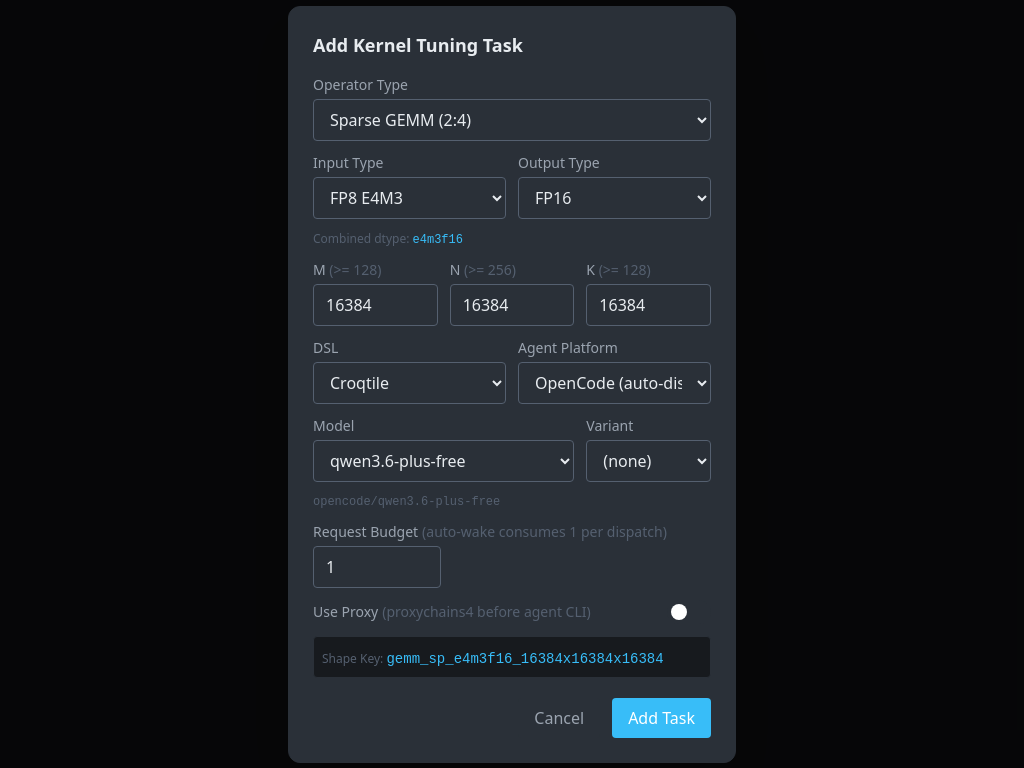
Test: AddTaskForm › shows validation error for N < 256
Replace the text in the 1st number field with "256" at [375, 304], box x1=313 y1=284 x2=438 y2=326
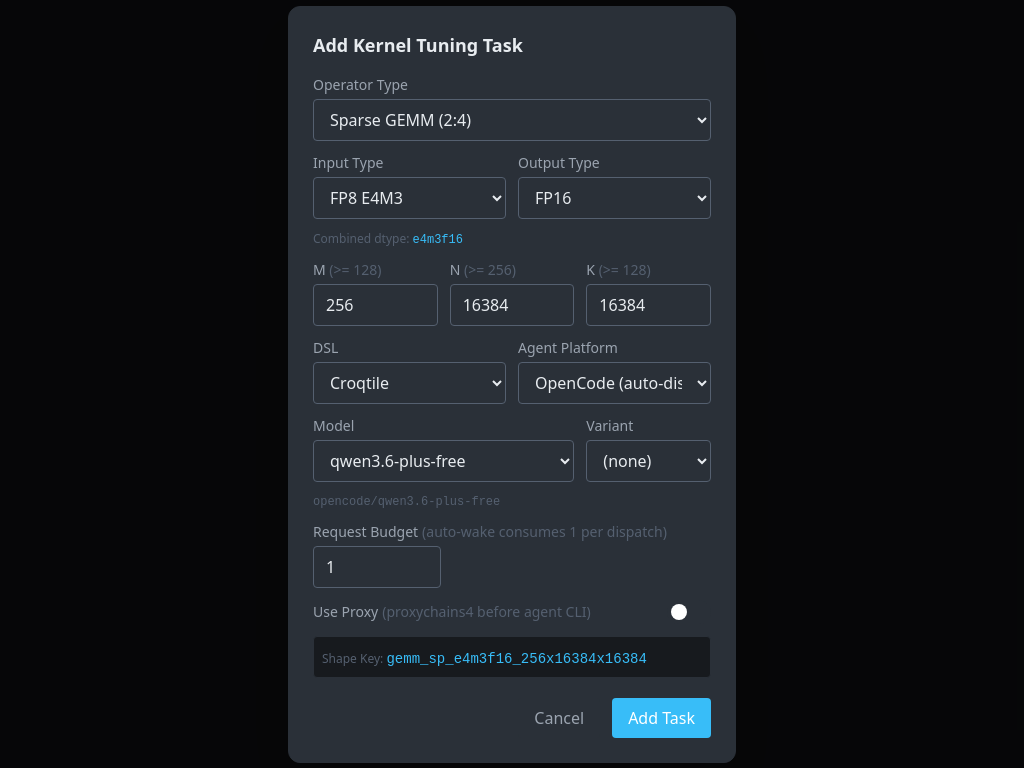
Replace the text in the 2nd number field with "128" at [512, 304], box x1=450 y1=284 x2=574 y2=326
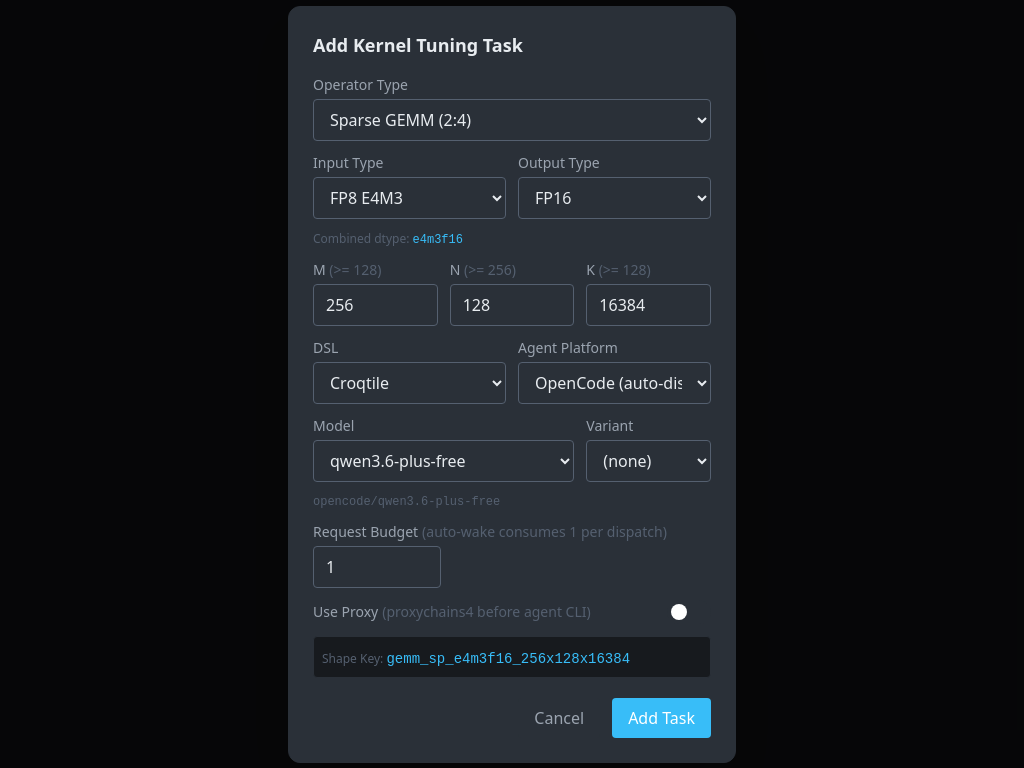
Replace the text in the 3rd number field with "512" at [649, 304], box x1=586 y1=284 x2=711 y2=326
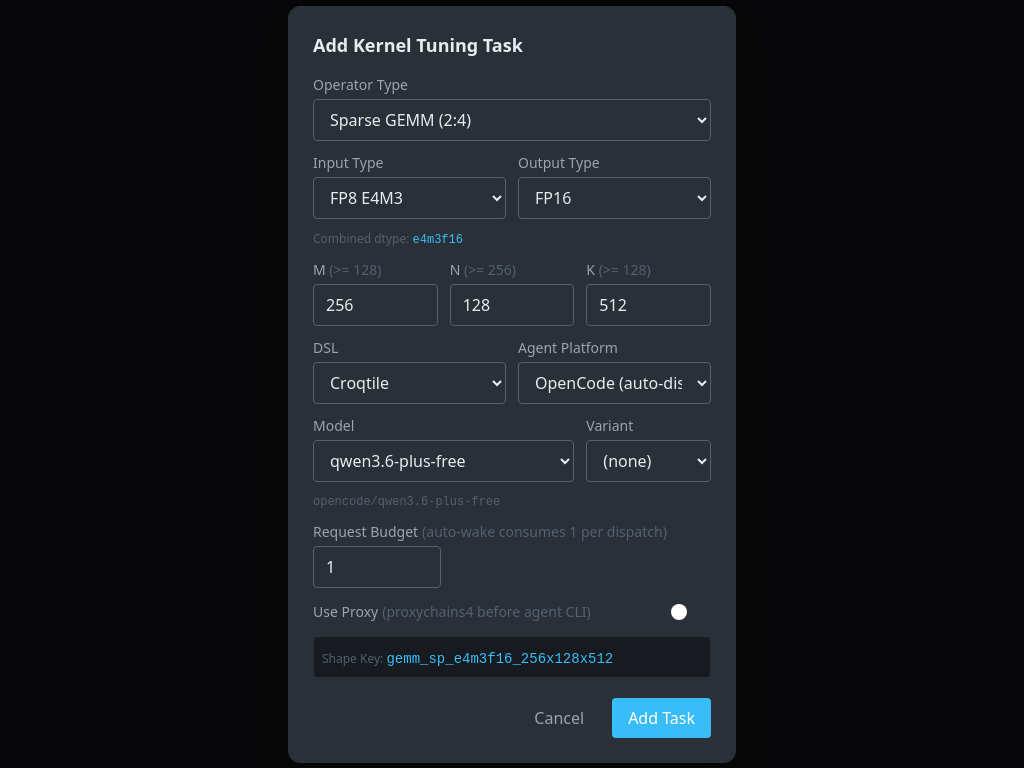
Submit the text "Add Task", box x1=288 y1=6 x2=736 y2=762
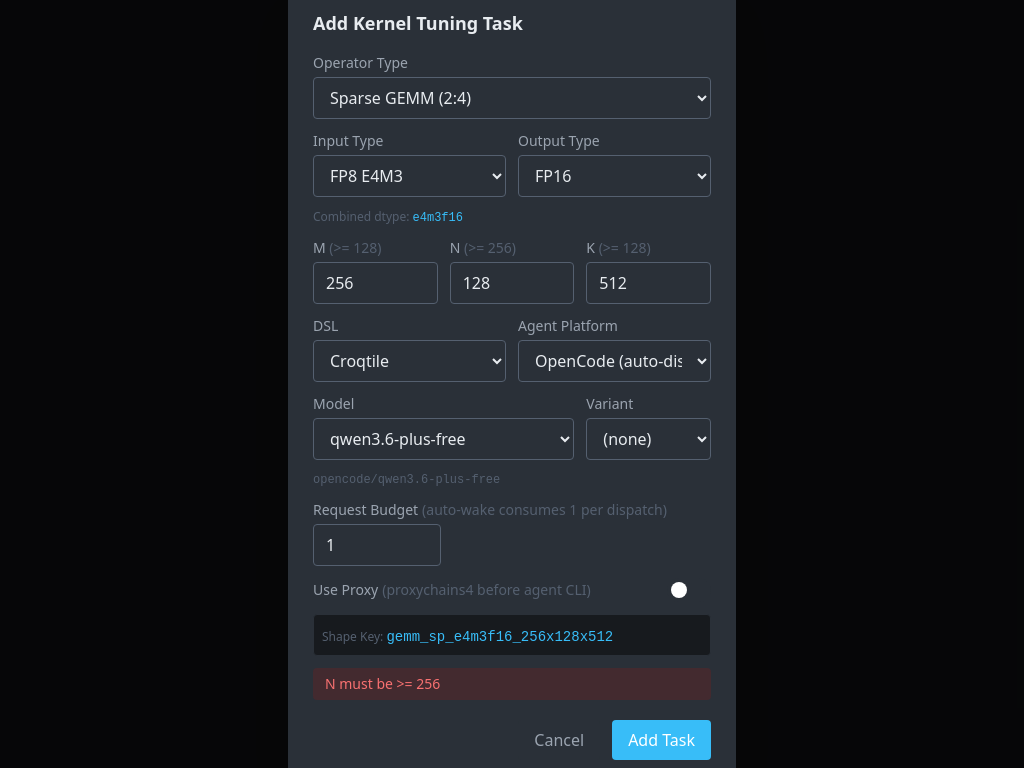
Now the text "N must be >= 256" is shown, box x1=313 y1=668 x2=711 y2=700
